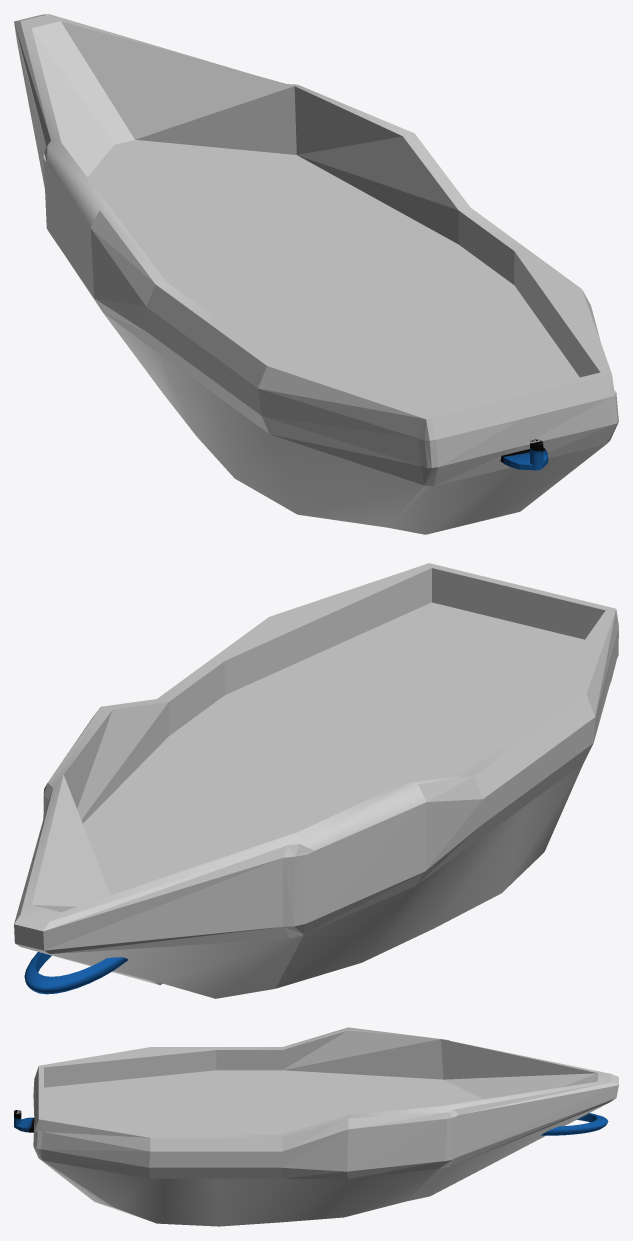
The model's file is Super Hull.FBX.
3 renders of one model, top to bottom at view 1: azimuth 30°, elevation 25°; view 2: azimuth 150°, elevation 25°; view 3: azimuth 270°, elevation 25°, orthographic. The views are drawn at different scales.
Parts seen in each view (by area): view 1: Super hulk, Anhänger back; view 2: Super hulk, fast Anhänger front; view 3: Super hulk, fast Anhänger front, Anhänger back.
Part boxes in pixels (x1,y1,x2,y2): Super hulk: (14,14,618,534); Anhänger back: (500,439,548,470); Super hulk: (14,563,618,998); fast Anhänger front: (24,952,127,994); Super hulk: (33,1027,618,1226); fast Anhänger front: (541,1113,608,1135); Anhänger back: (14,1110,34,1132).
Size of the model in its own units: 11.03 by 6.11 by 29.11.
